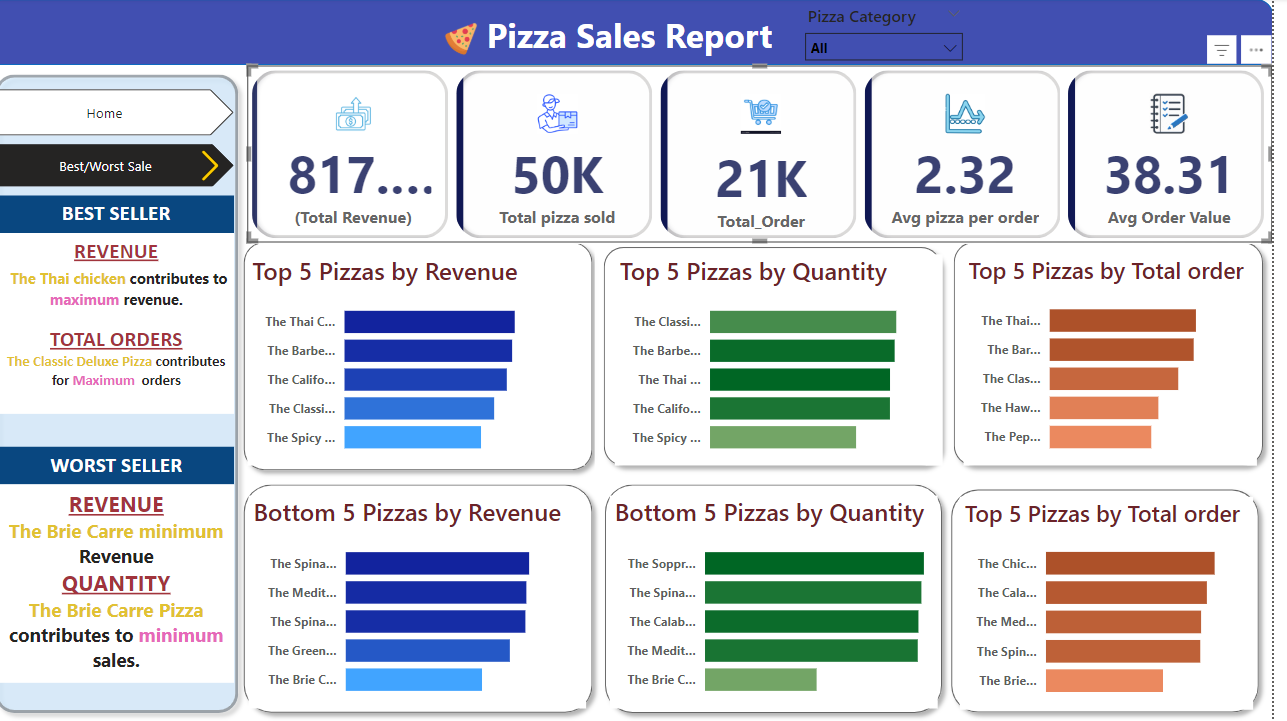

What the dashboard file says about the page in this screenshot:
{"tool":"powerbi","page":{"name":"Best/Worst Sale","canvas":[1280,720],"ordinal":1},"visuals":[{"type":"cardVisual","fields":{"Data":["pizza_sales.(Total Revenue)","pizza_sales.Total pizza sold","pizza_sales.Total_Order","pizza_sales.Avg pizza per order","pizza_sales.Avg Order Value"]},"box":[260,66.7,1020,177.3],"z":0},{"type":"shape","box":[0,1.2,1281,65.5],"z":1000},{"type":"image","box":[451.7,7.2,42.8,66.7],"z":2000},{"type":"shape","box":[247.1,234.3,365,245],"z":3000},{"type":"shape","box":[954.3,234.3,325.7,240.7],"z":4000},{"type":"shape","box":[247.1,475,365,245],"z":5000},{"type":"shape","box":[606.7,474.7,353.3,245.3],"z":6000},{"type":"shape","box":[952,480,324,240],"z":7000},{"type":"shape","box":[0,66.7,260,653.3],"z":8000},{"type":"textbox","box":[12.9,197.1,234.3,37.9],"z":9000},{"type":"textbox","box":[12.9,234.3,234.3,180],"z":10000},{"type":"textbox","box":[12.9,446.4,234.3,37.9],"z":11000},{"type":"textbox","box":[12.9,484.3,234.3,197.9],"z":12000},{"type":"shape","box":[606.4,239.3,353.6,235.7],"z":13000},{"type":"barChart","title":"Top 5 Pizzas by Revenue","fields":{"Y":["pizza_sales.(Total Revenue)"],"Category":["pizza_sales.pizza_name"]},"box":[260,254.7,336,210.7],"z":14000},{"type":"barChart","title":"Bottom 5 Pizzas by Revenue","fields":{"Y":["pizza_sales.(Total Revenue)"],"Category":["pizza_sales.pizza_name"]},"box":[261.3,494.7,336,212],"z":15000},{"type":"barChart","title":"Top 5 Pizzas by Quantity","fields":{"Category":["pizza_sales.pizza_name"],"Y":["pizza_sales.Total pizza sold"]},"box":[625.3,254.7,326.7,210.7],"z":16000},{"type":"barChart","title":"Bottom 5 Pizzas by Quantity","fields":{"Category":["pizza_sales.pizza_name"],"Y":["pizza_sales.Total pizza sold"]},"box":[621.3,494.7,326.7,212],"z":17000},{"type":"barChart","title":"Top 5 Pizzas by Total order","fields":{"Y":["pizza_sales.(Total Revenue)"],"Category":["pizza_sales.pizza_name"]},"box":[973.3,254.7,292,210.7],"z":18000},{"type":"barChart","title":"Top 5 Pizzas by Total order","fields":{"Y":["pizza_sales.(Total Revenue)"],"Category":["pizza_sales.pizza_name"]},"box":[969.3,496,292,212],"z":19000},{"type":"pageNavigator","box":[13,145,234,42],"z":20000},{"type":"pageNavigator","box":[13,91,234,46],"z":21000},{"type":"image","box":[13,98,56,32],"z":22000},{"type":"image","box":[168,147,110,40],"z":23000},{"type":"slicer","fields":{"Values":["pizza_sales.pizza_category"]},"box":[805,1.2,177.5,65],"z":25000}]}

Visuals, with their boxes on the page's 1280x720 design canvas (x1, y1, x2, y2). These are canvas units, not pixel positions in the 1287x721 screenshot, which may show the page scaled, cropped or inside an application window:
cardVisual - pizza_sales.(Total Revenue) x pizza_sales.Total pizza sold: region(260, 67, 1280, 244)
shape: region(0, 1, 1281, 67)
image: region(452, 7, 494, 74)
shape: region(247, 234, 612, 479)
shape: region(954, 234, 1280, 475)
shape: region(247, 475, 612, 720)
shape: region(607, 475, 960, 720)
shape: region(952, 480, 1276, 720)
shape: region(0, 67, 260, 720)
textbox: region(13, 197, 247, 235)
textbox: region(13, 234, 247, 414)
textbox: region(13, 446, 247, 484)
textbox: region(13, 484, 247, 682)
shape: region(606, 239, 960, 475)
"Top 5 Pizzas by Revenue" barChart: region(260, 255, 596, 465)
"Bottom 5 Pizzas by Revenue" barChart: region(261, 495, 597, 707)
"Top 5 Pizzas by Quantity" barChart: region(625, 255, 952, 465)
"Bottom 5 Pizzas by Quantity" barChart: region(621, 495, 948, 707)
"Top 5 Pizzas by Total order" barChart: region(973, 255, 1265, 465)
"Top 5 Pizzas by Total order" barChart: region(969, 496, 1261, 708)
pageNavigator: region(13, 145, 247, 187)
pageNavigator: region(13, 91, 247, 137)
image: region(13, 98, 69, 130)
image: region(168, 147, 278, 187)
slicer - pizza_sales.pizza_category: region(805, 1, 982, 66)
